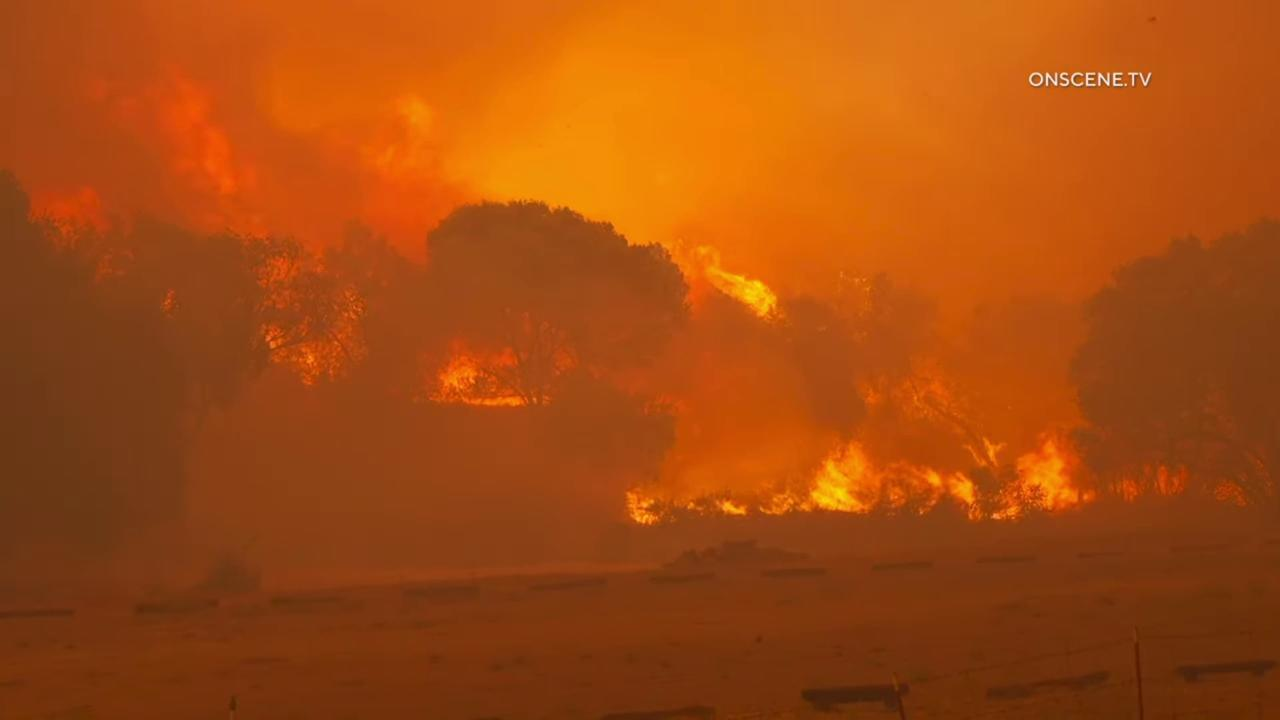fire: (755, 367, 1100, 525), (242, 242, 372, 389), (413, 315, 582, 408), (691, 244, 791, 328), (1108, 459, 1193, 507), (622, 480, 672, 526), (683, 491, 749, 521)
smoke: (0, 0, 1280, 720)
